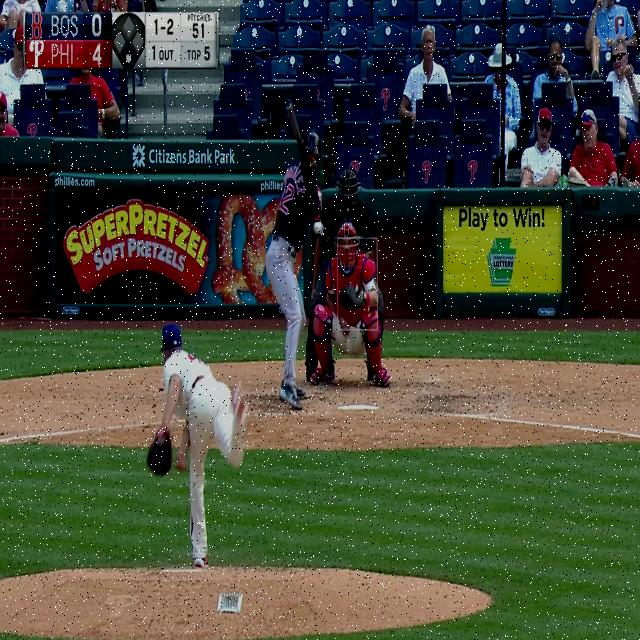baseball: (313, 222, 322, 236)
